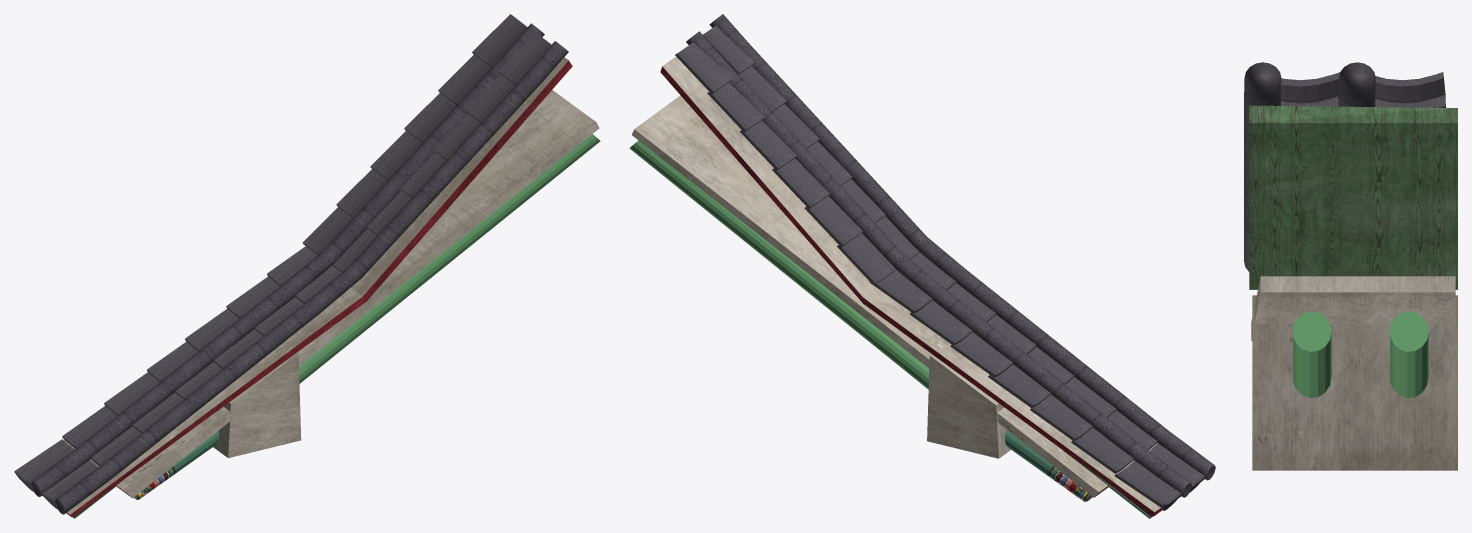
File: SM_Roof_4.fbx
3 renders of one model, left to right at view 1: azimuth 30°, elevation 25°; view 2: azimuth 150°, elevation 25°; view 3: azimuth 270°, elevation 25°, orthographic. The views are drawn at different scales.
Visible parts, largest first — view 1: SM_Roof_4; view 2: SM_Roof_4; view 3: SM_Roof_4.
Part boxes in pixels (x1,y1,x2,y2): SM_Roof_4: (14, 14, 600, 518); SM_Roof_4: (629, 14, 1215, 518); SM_Roof_4: (1244, 62, 1457, 470).
Size of the model in its own units: 810 by 138 by 513.
Materials: 5 (5 with a texture image).
